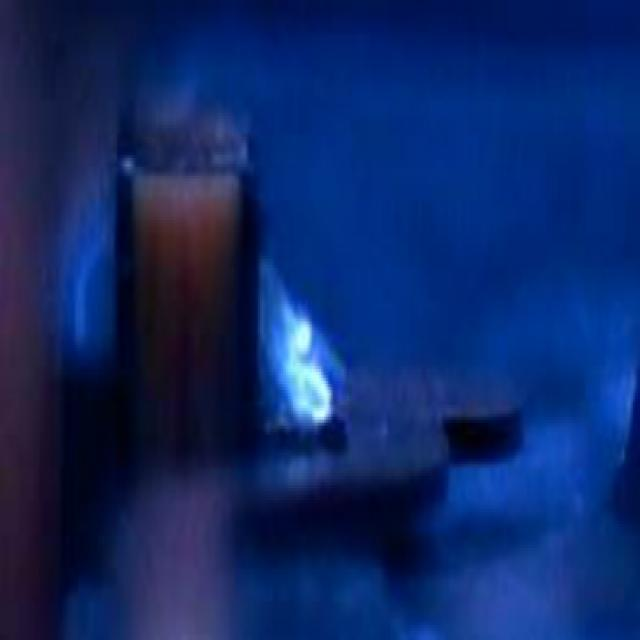Good: (244, 236, 368, 456)
